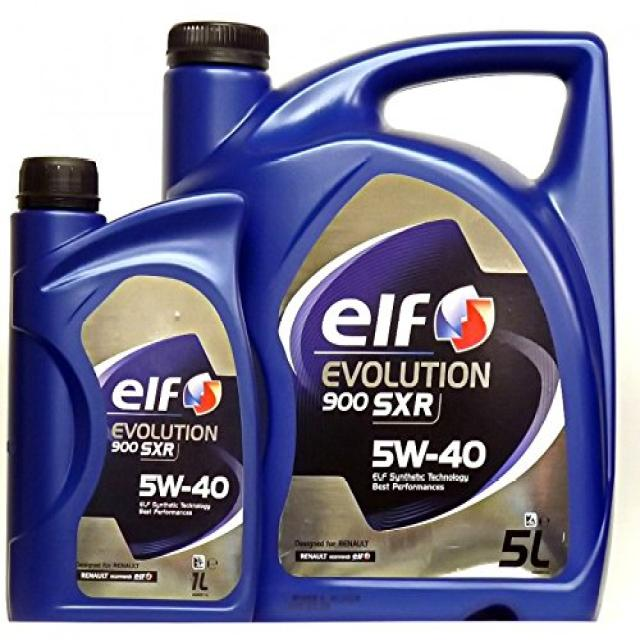motor_oil: (165, 26, 611, 624), (7, 156, 260, 622)
